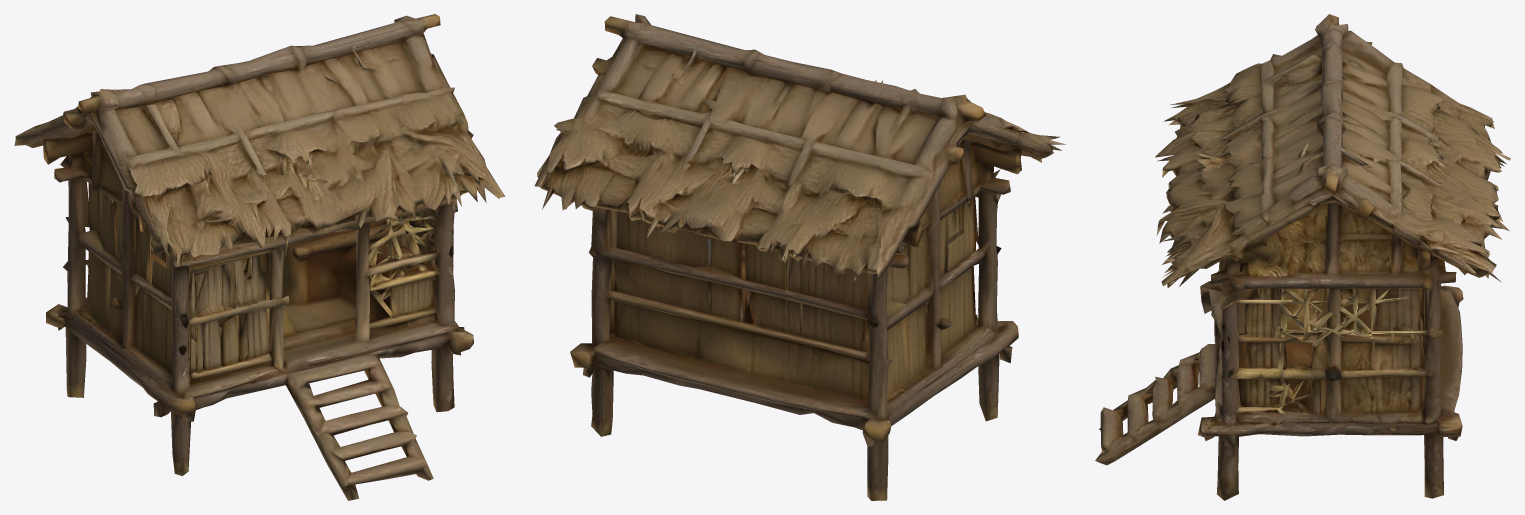
The model's file is v-coop.glb.
3 renders of one model, left to right at view 1: azimuth 30°, elevation 25°; view 2: azimuth 150°, elevation 25°; view 3: azimuth 270°, elevation 25°, orthographic. The views are drawn at different scales.
Visible parts, largest first — view 1: tripo_node_0d70fc79-f2a7-488c-bbf7-87d54650471b; view 2: tripo_node_0d70fc79-f2a7-488c-bbf7-87d54650471b; view 3: tripo_node_0d70fc79-f2a7-488c-bbf7-87d54650471b.
Part boxes in pixels (left/top/right/bottom): tripo_node_0d70fc79-f2a7-488c-bbf7-87d54650471b: left=14, top=14, right=505, bottom=500; tripo_node_0d70fc79-f2a7-488c-bbf7-87d54650471b: left=534, top=14, right=1065, bottom=500; tripo_node_0d70fc79-f2a7-488c-bbf7-87d54650471b: left=1095, top=14, right=1510, bottom=500.
Size of the model in its own units: 0.9684 by 0.928 by 1.
Materials: 1 (1 with a texture image).
